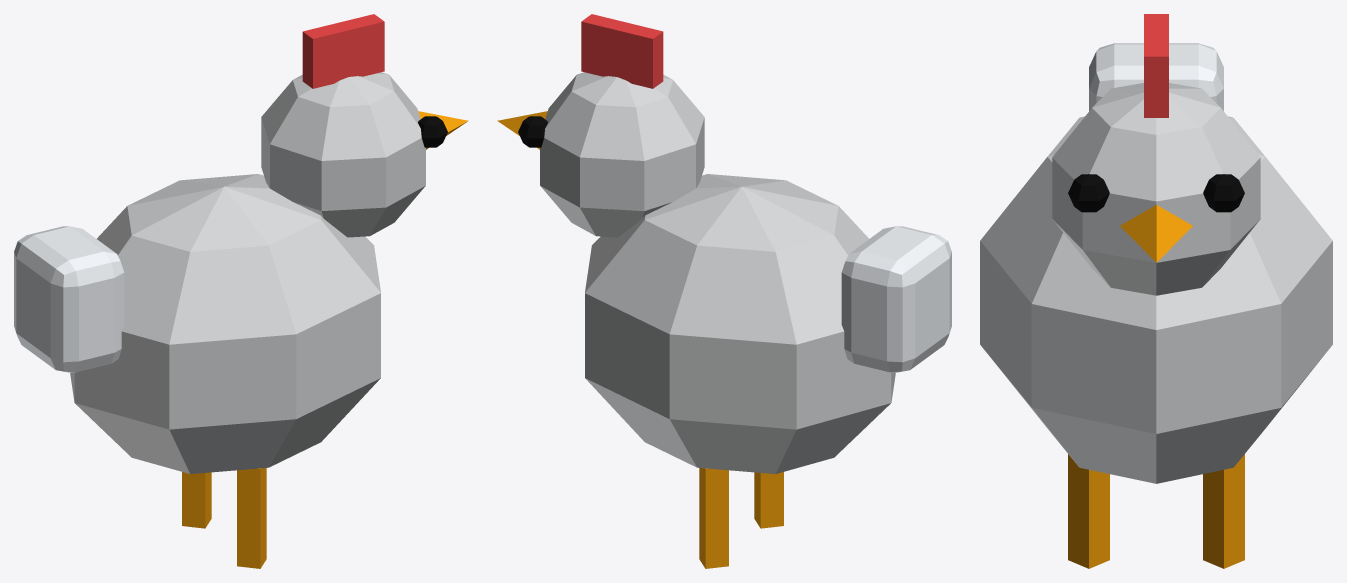
Rendered from an-chicken-BZaxPQVE.glb.
3 renders of one model, left to right at view 1: azimuth 30°, elevation 25°; view 2: azimuth 150°, elevation 25°; view 3: azimuth 270°, elevation 25°, orthographic. The views are drawn at different scales.
Parts seen in each view (by area): view 1: an-chicken; view 2: an-chicken; view 3: an-chicken.
Boxes of the visible parts, left/top/right/bottom form: an-chicken: left=14, top=14, right=468, bottom=568; an-chicken: left=497, top=14, right=951, bottom=568; an-chicken: left=980, top=14, right=1332, bottom=568.
Bounding box in the file's own units: 0.073 × 0.078 × 0.0418.
